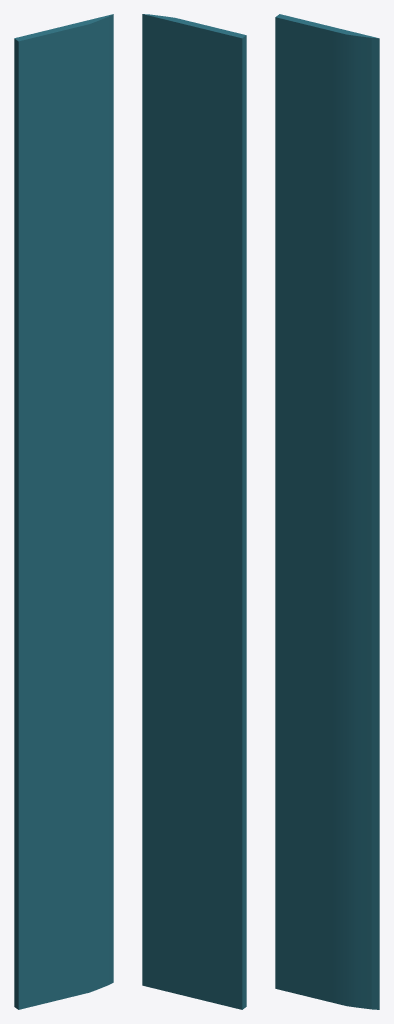
The model's file is Regla.FBX.
3 views of the same model, side by side, from view 1: azimuth 30°, elevation 25°; view 2: azimuth 150°, elevation 25°; view 3: azimuth 330°, elevation 25° (orthographic).
Parts seen in each view (by area): view 1: Regla; view 2: Regla; view 3: Regla.
Boxes of the visible parts, x1,y1,x2,y2 form: Regla: (14, 14, 113, 1009); Regla: (142, 14, 246, 1009); Regla: (275, 14, 379, 1009).
Size of the model in its own units: 0.0515 by 0.4789 by 0.00387.
